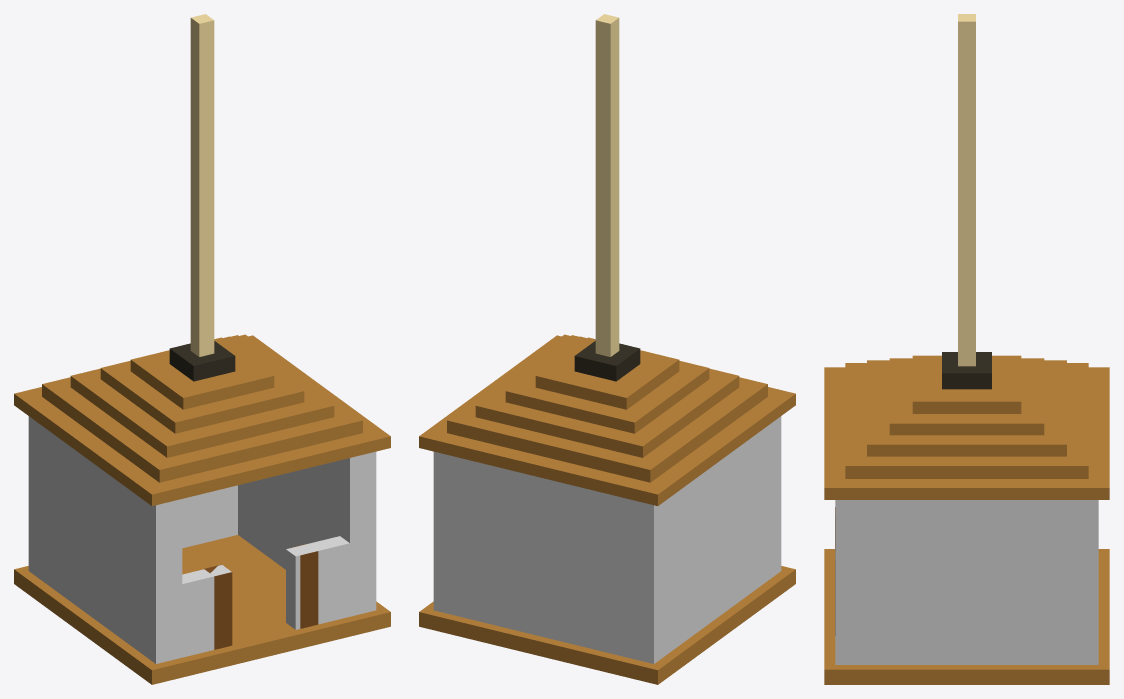
File: Acensor.fbx
The picture shows the model from 3 angles, left to right: view 1: azimuth 30°, elevation 25°; view 2: azimuth 150°, elevation 25°; view 3: azimuth 270°, elevation 25°; orthographic projection. The views are drawn at different scales.
Visible parts, largest first — view 1: Ascensor, AcensorCustomColider; view 2: AcensorCustomColider, Ascensor; view 3: Ascensor, AcensorCustomColider.
Part boxes in pixels (x1,y1,x2,y2): Ascensor: (14, 14, 390, 684); AcensorCustomColider: (28, 416, 376, 663); AcensorCustomColider: (433, 416, 781, 663); Ascensor: (419, 14, 795, 684); Ascensor: (824, 14, 1109, 684); AcensorCustomColider: (835, 500, 1098, 664).
Size of the model in its own units: 3.4 by 7.98 by 3.4.
